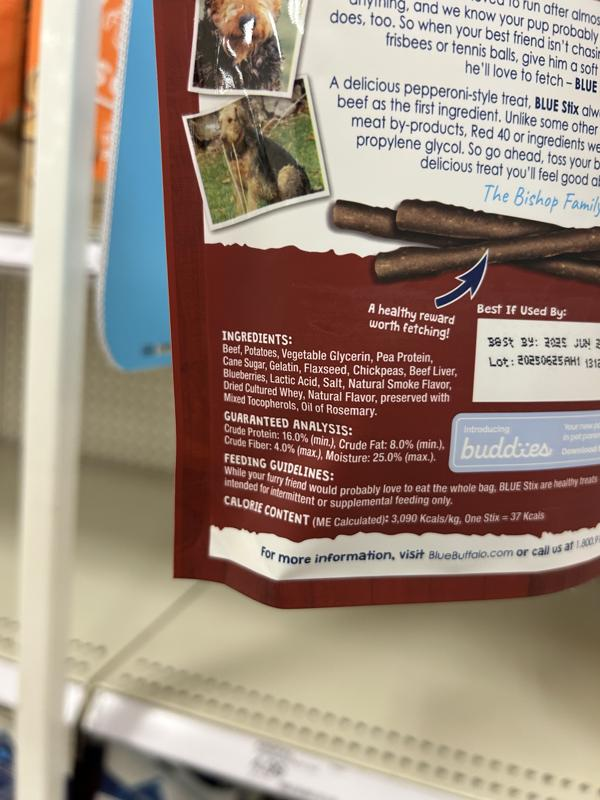ingredients: (220, 329, 459, 418)
